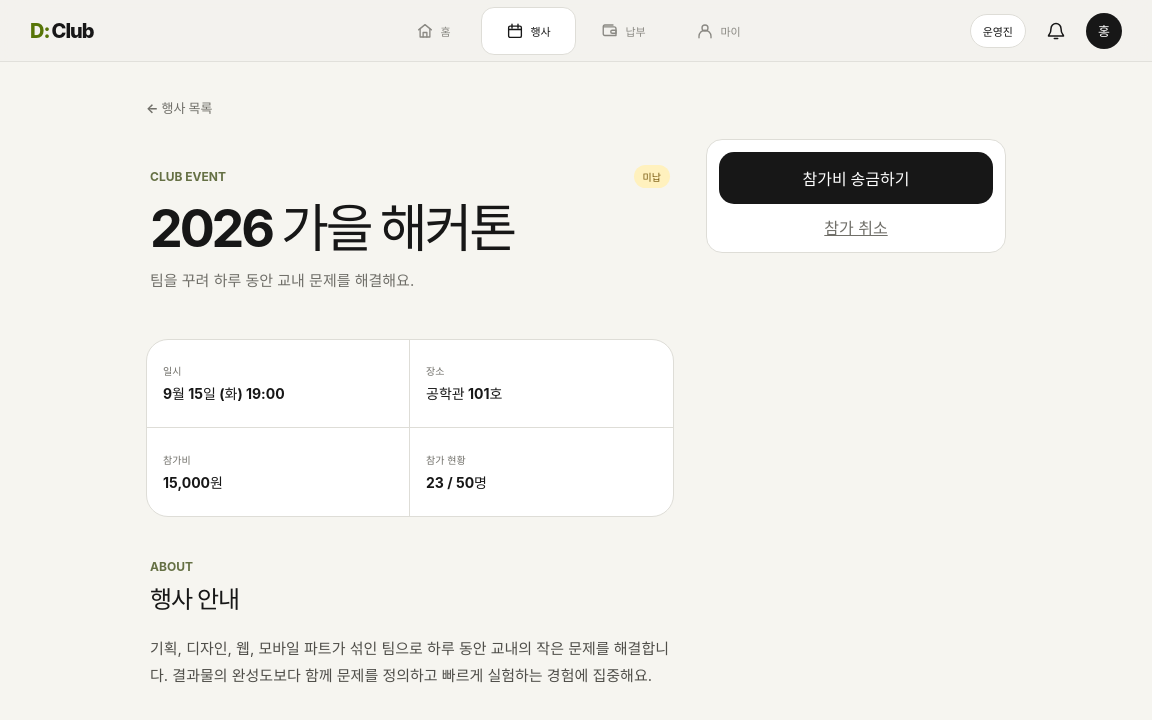
EventDetailPage › 참가 신청을 취소하고 참가비 부과 취소 상태를 보여준다
Click the button "참가 취소": x=856, y=227 [719,214,993,240]
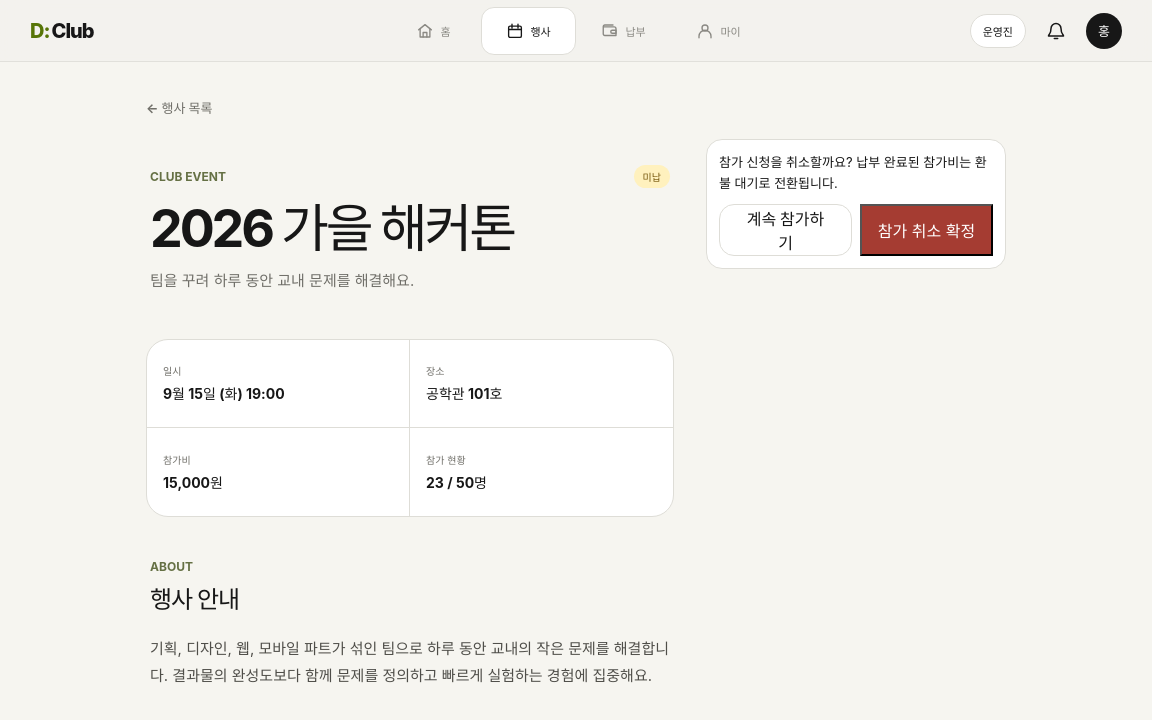
Expected: the text "참가 신청을 취소할까요? 납부 완료된 참가비는 환불 대기로 전환됩니다." is shown, [719,152,993,194]
Click the button "참가 취소 확정": x=926, y=230 [860,204,993,256]
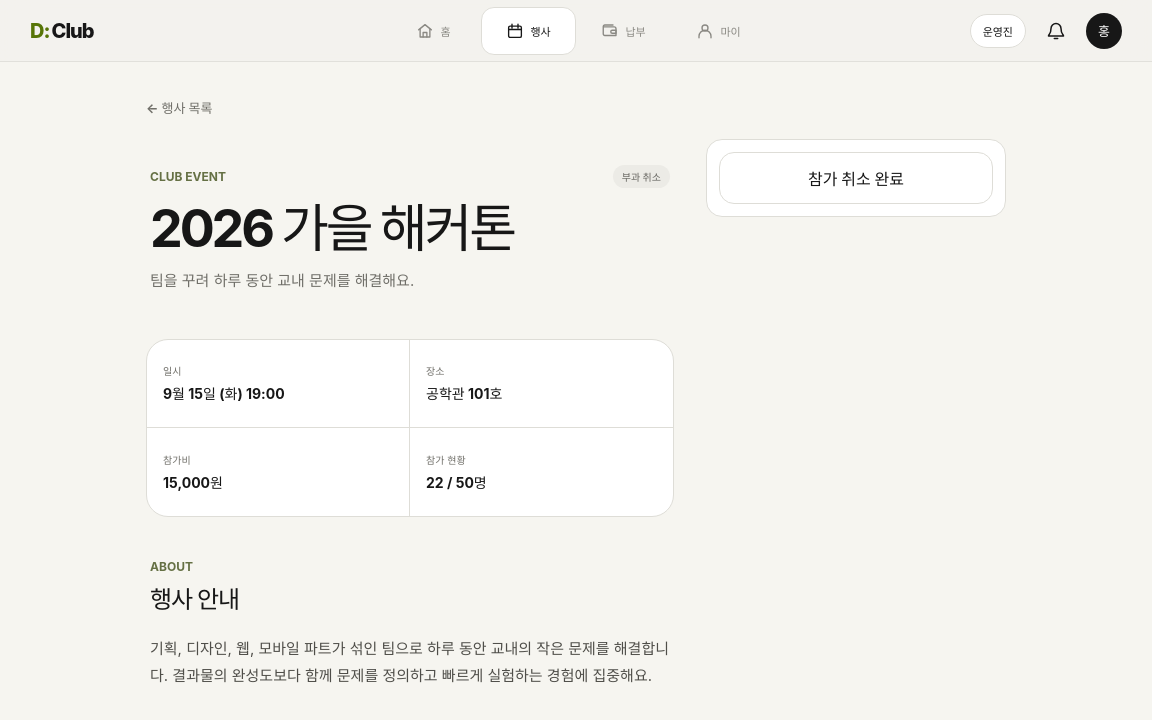
Expected: the text "부과 취소" is shown, [613,165,670,188]
Expected: the button "참가 취소 완료" is disabled, [719,152,993,204]
